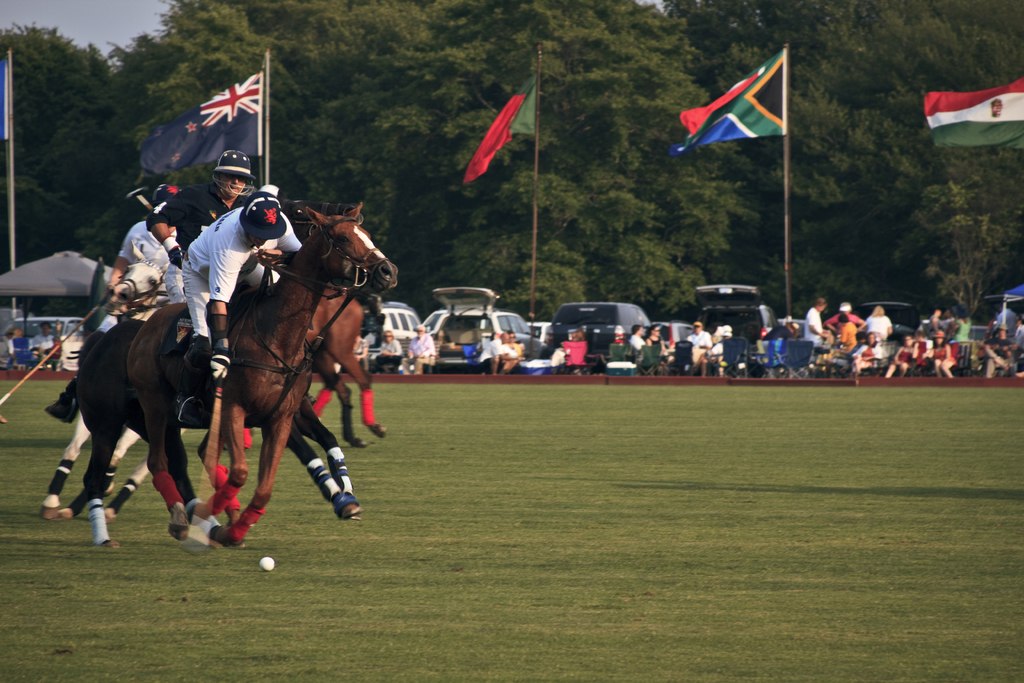Person: (0, 149, 1023, 425)
